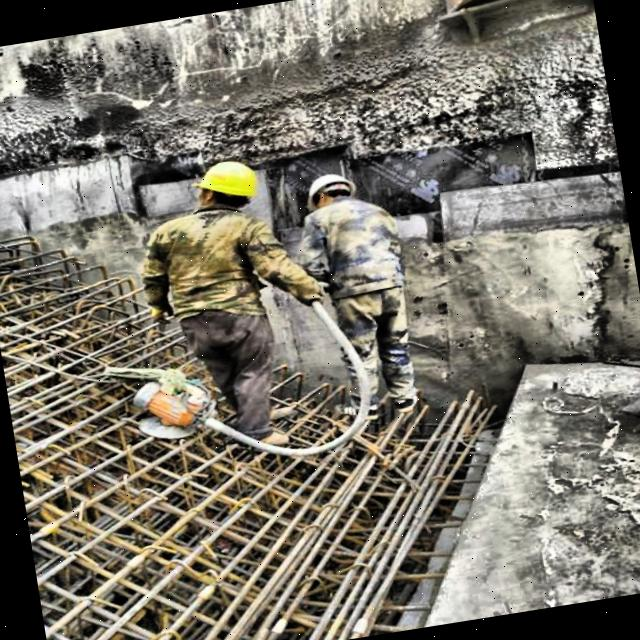helmet: (187, 152, 266, 225), (297, 166, 365, 224)
